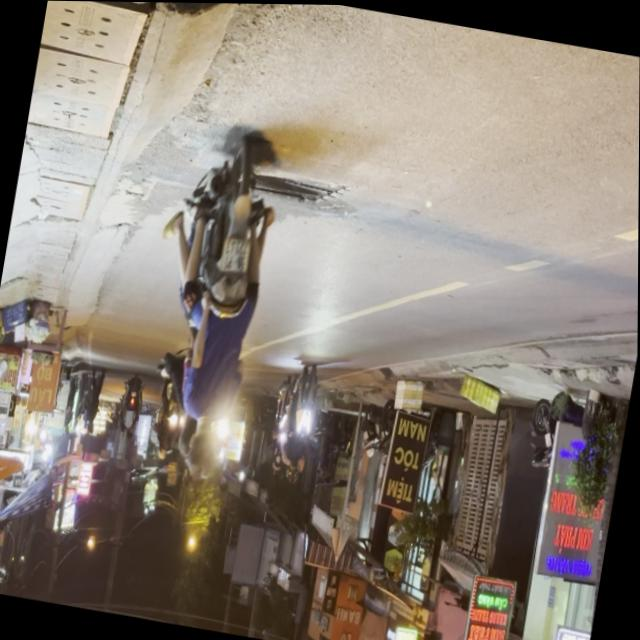licenseplate: (133, 127, 292, 489)
motorcyclist: (183, 417, 226, 481)
nohelmet: (219, 236, 251, 274)
